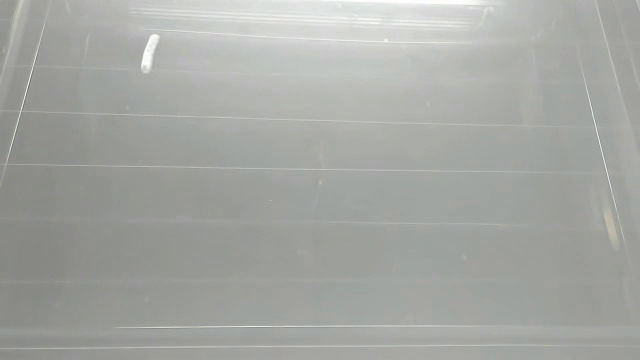alpha: (137, 31, 163, 76)
